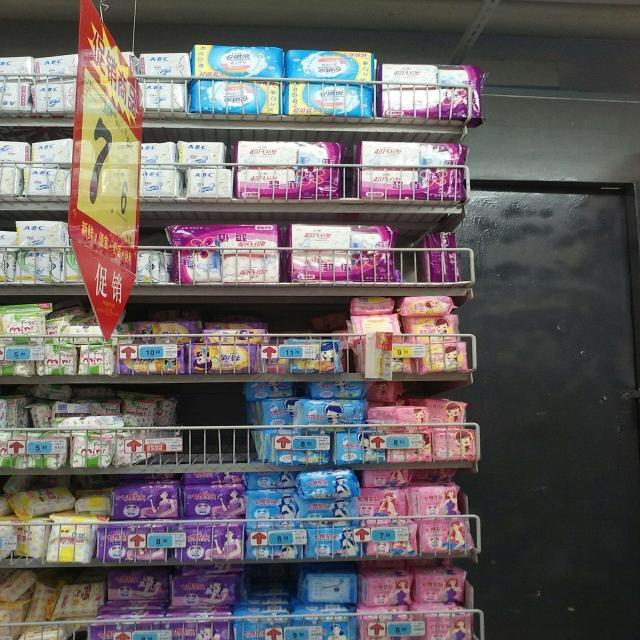void: (159, 385, 247, 456)
